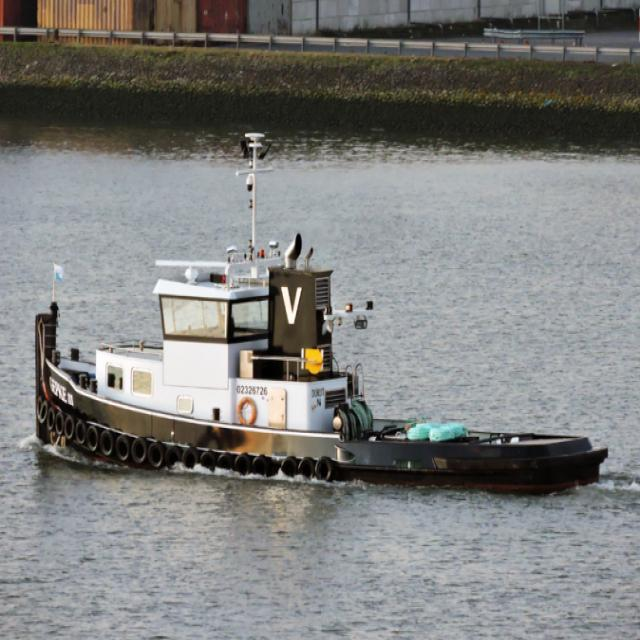tugboat: (32, 128, 613, 503)
